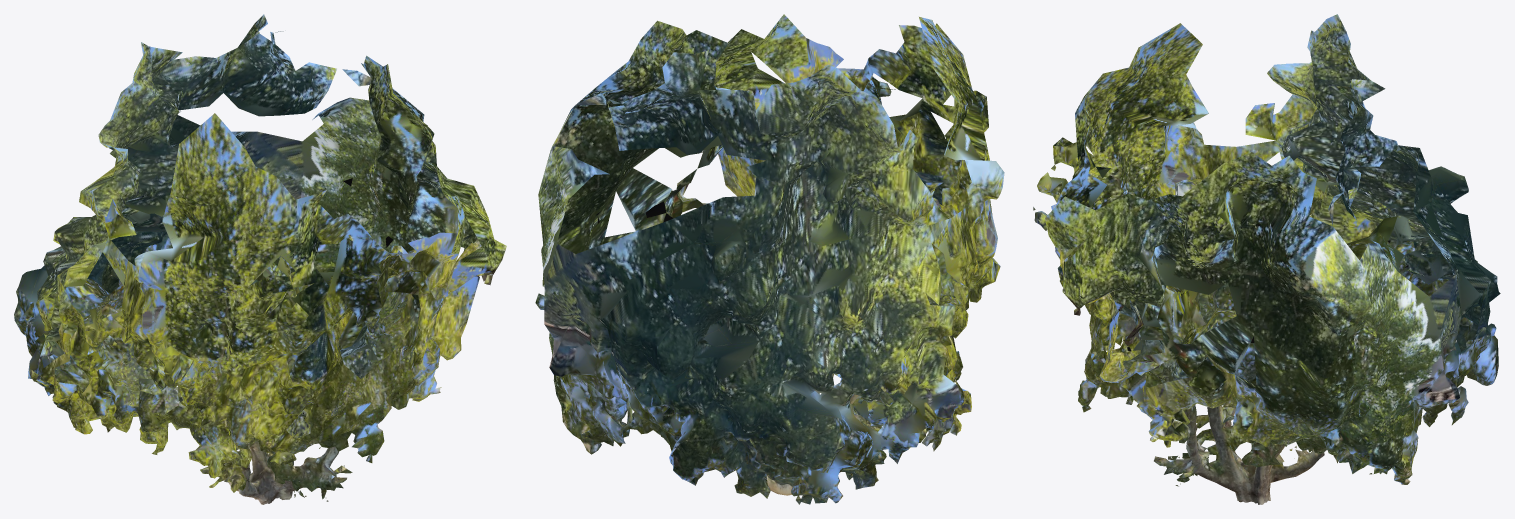
File: medium.glb
3 renders of one model, left to right at view 1: azimuth 30°, elevation 25°; view 2: azimuth 150°, elevation 25°; view 3: azimuth 270°, elevation 25°, orthographic. The views are drawn at different scales.
Parts seen in each view (by area): view 1: medium.008; view 2: medium.008; view 3: medium.008.
Boxes of the visible parts, bbox=[...] form: medium.008: bbox=[14, 14, 506, 504]; medium.008: bbox=[535, 14, 1004, 504]; medium.008: bbox=[1033, 14, 1500, 504].
Bounding box in the file's own units: 26.57 × 29.47 × 28.27.
1 material, 1 textured.
